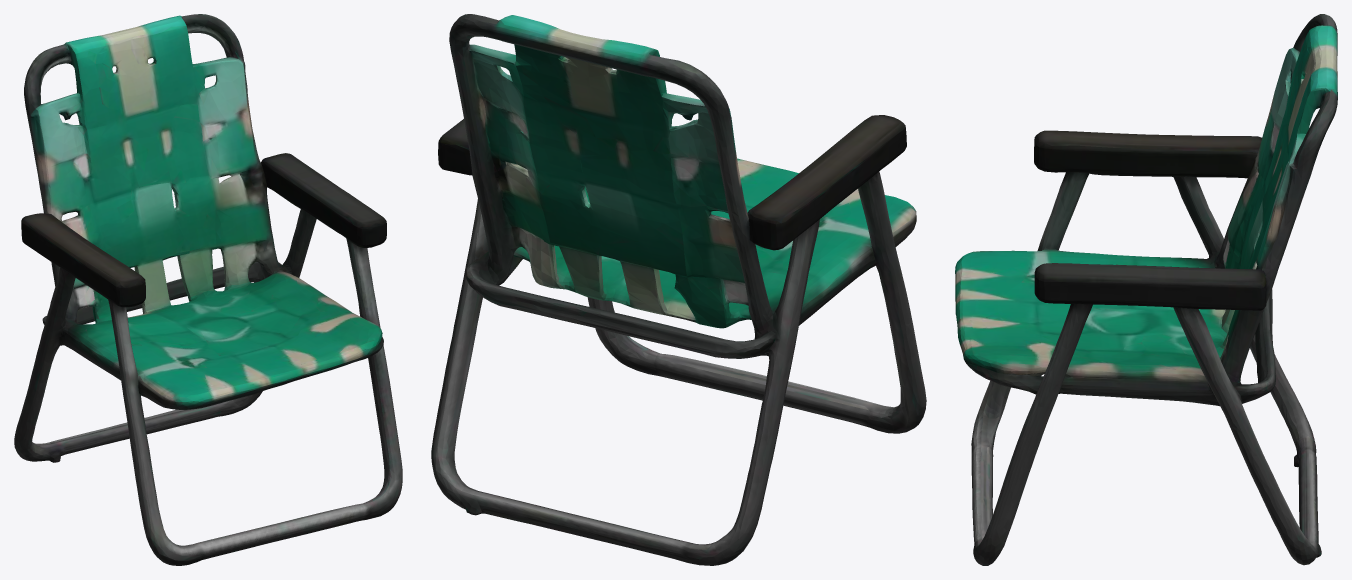
The model's file is outside chair.glb.
3 renders of one model, left to right at view 1: azimuth 30°, elevation 25°; view 2: azimuth 150°, elevation 25°; view 3: azimuth 270°, elevation 25°, orthographic. The views are drawn at different scales.
Visible parts, largest first — view 1: world; view 2: world; view 3: world.
Boxes of the visible parts, box(x1,y1,x2,y2) form: world: box(14, 14, 402, 565); world: box(431, 14, 926, 565); world: box(955, 14, 1337, 565).
Size of the model in its own units: 0.7058 by 0.9995 by 0.7634.
1 material, 1 textured.
